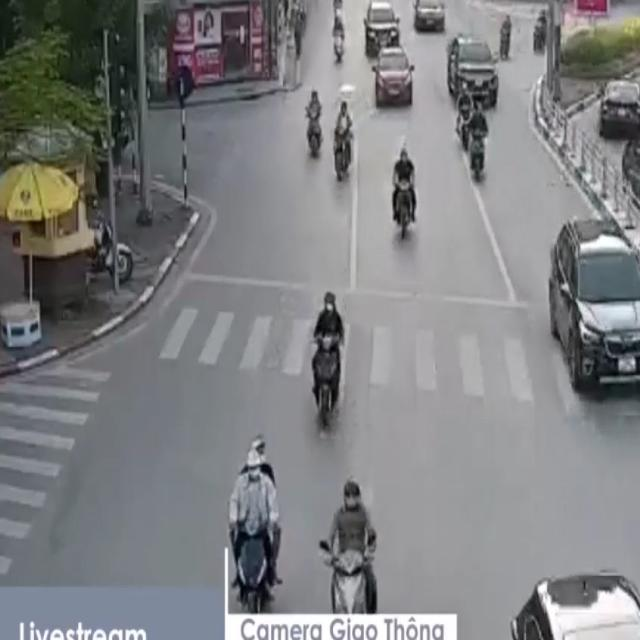car: (548, 217, 640, 395), (507, 572, 640, 640), (449, 38, 498, 107), (373, 49, 415, 106), (600, 83, 640, 142), (364, 1, 400, 36), (414, 0, 448, 34)
motorbike: (226, 435, 283, 612), (320, 474, 380, 613), (308, 290, 346, 433), (390, 146, 421, 247), (332, 98, 355, 184), (466, 100, 489, 182), (305, 84, 326, 165), (454, 76, 473, 160)
